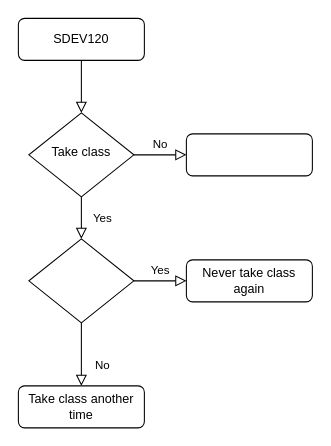
This 331x446 diagram has some shape labels left out. The shapes that lost their labels are listed below. From the top down, each one's centre as x and y in pixels, then its label:
At point 248,154: "Take it another time".
At point 81,280: "Pass class".
